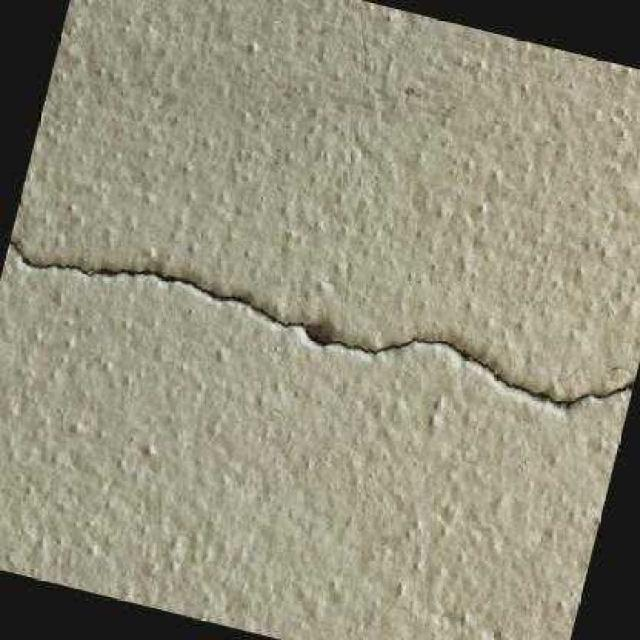D00: (9, 237, 635, 411)
